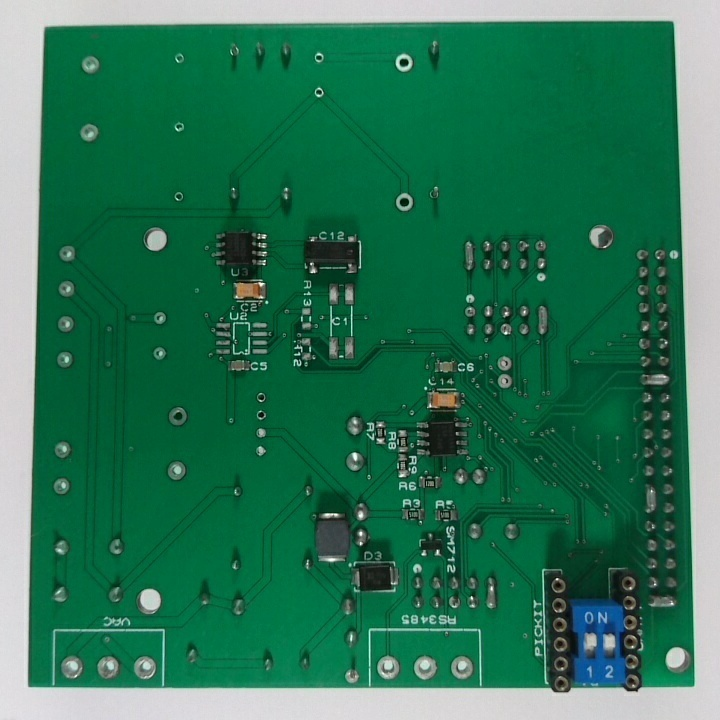F: (411, 653, 441, 684), (56, 653, 87, 682), (448, 654, 477, 683), (375, 653, 401, 685), (94, 652, 122, 681), (131, 654, 159, 683), (163, 460, 191, 486), (77, 122, 103, 144), (165, 406, 188, 429), (394, 191, 416, 215), (80, 54, 101, 77), (394, 51, 415, 74), (51, 440, 74, 461), (51, 478, 74, 499), (57, 243, 77, 265), (57, 313, 76, 335), (57, 279, 77, 298), (54, 352, 75, 369), (150, 310, 169, 328), (341, 668, 362, 684), (496, 355, 514, 373), (496, 373, 513, 392), (151, 347, 168, 363), (254, 407, 270, 423), (533, 239, 550, 254), (228, 43, 242, 60), (429, 184, 442, 202), (637, 337, 652, 352), (173, 119, 187, 135), (448, 595, 462, 611), (500, 322, 514, 338), (173, 50, 185, 67), (312, 51, 326, 65), (254, 426, 268, 440), (254, 444, 267, 459), (464, 305, 477, 320), (313, 86, 326, 100), (256, 389, 266, 406), (655, 284, 668, 297), (654, 249, 666, 261)
P: (646, 593, 682, 612), (642, 483, 662, 517), (638, 369, 673, 387), (485, 573, 500, 613), (462, 237, 477, 274), (536, 303, 550, 340)
